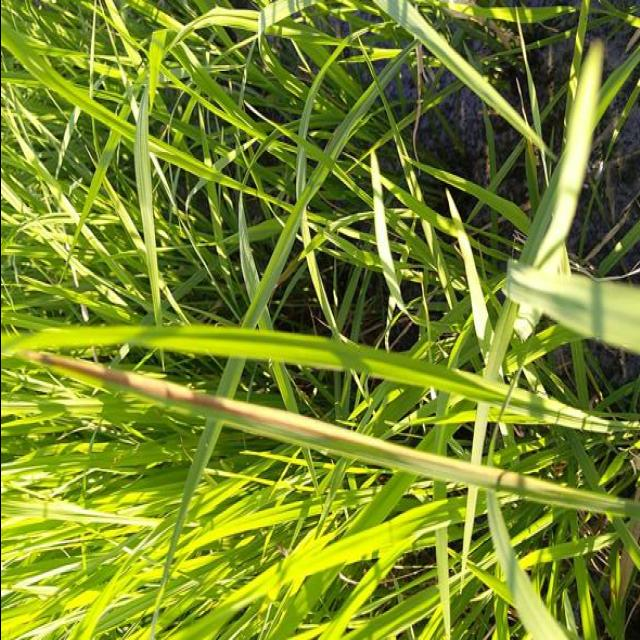Leaf Streak: (28, 353, 604, 514)
